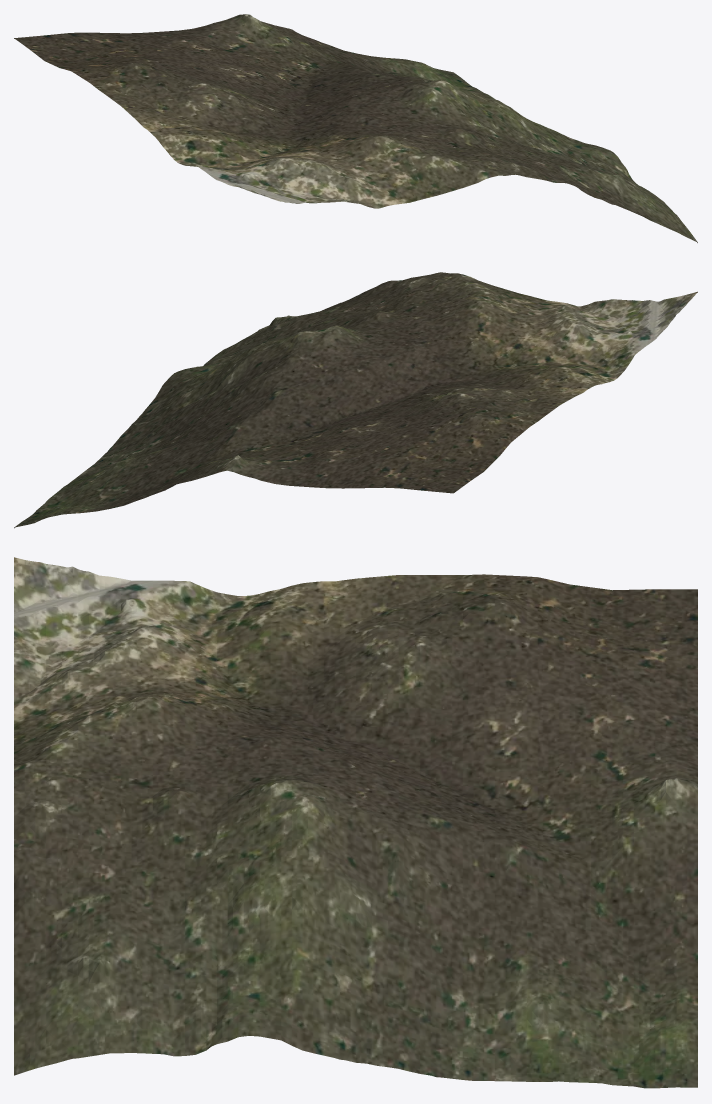
3 renders of one model, top to bottom at view 1: azimuth 30°, elevation 25°; view 2: azimuth 150°, elevation 25°; view 3: azimuth 270°, elevation 25°, orthographic. The views are drawn at different scales.
Bounding box in the file's own units: 500 × 180 × 481.
Materials: 1 (1 with a texture image).
